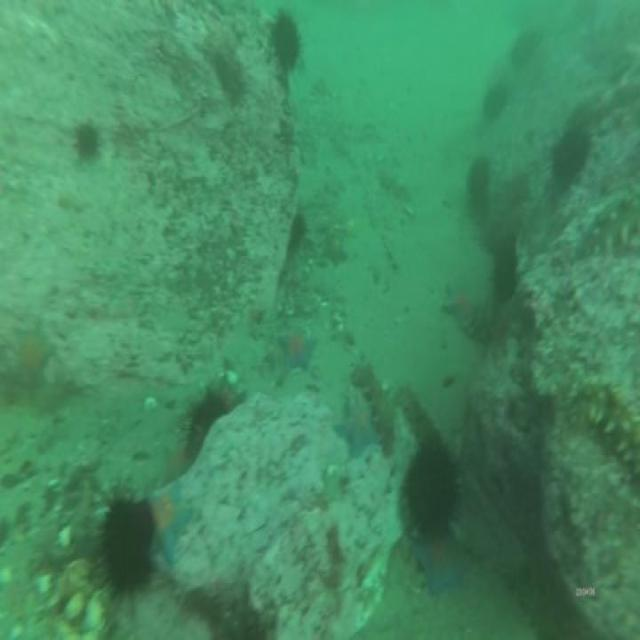echinus: (406, 450, 457, 534), (105, 502, 149, 596), (188, 395, 223, 441), (554, 132, 588, 178), (494, 240, 516, 297), (273, 18, 300, 64), (510, 27, 540, 65), (470, 156, 488, 204), (484, 82, 502, 117), (77, 128, 95, 158)
holothurian: (563, 368, 640, 496), (352, 364, 395, 458), (200, 36, 245, 104), (588, 207, 640, 262), (397, 382, 438, 444)
scallop: (84, 591, 104, 637), (57, 529, 72, 550)
starfish: (148, 487, 190, 562), (335, 391, 377, 458), (418, 539, 472, 589), (14, 327, 54, 394), (274, 327, 316, 371), (444, 282, 474, 322), (322, 230, 348, 268), (163, 446, 191, 480)
